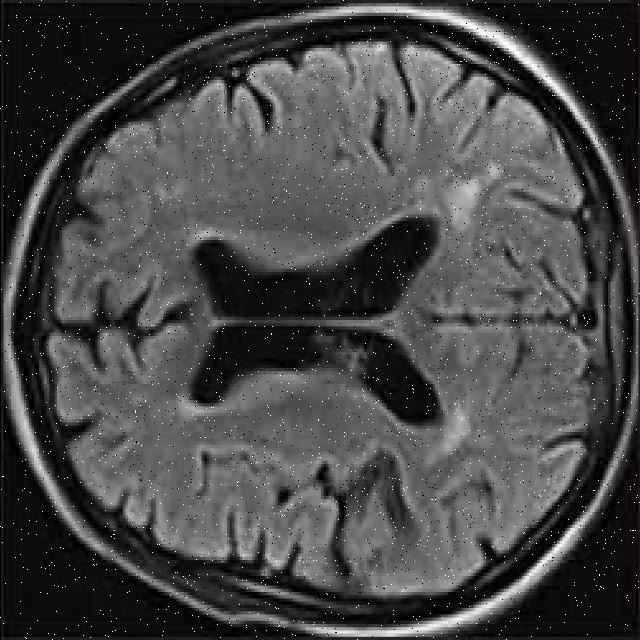No_Tumor: (3, 5, 639, 636)
